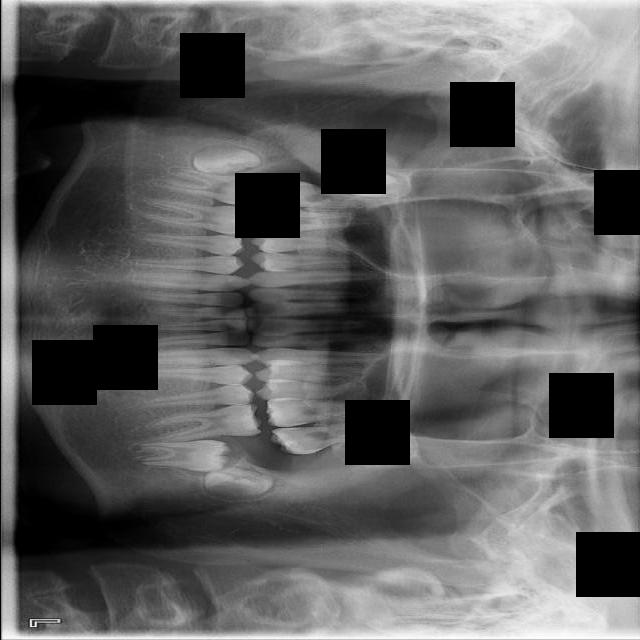3M ESPE Implant: (341, 171, 422, 198)
73: (15, 622, 26, 633)
BioHorizons Implant: (268, 418, 402, 457)
BioLife Implant: (345, 427, 415, 470)
Biomet 3i Implant: (201, 464, 273, 503)
Blue Sky Bio Implant: (129, 439, 230, 474)
Caries: (266, 180, 400, 211)
Implant: (151, 164, 268, 210)
Keystone Dental Implant: (191, 140, 263, 182)
